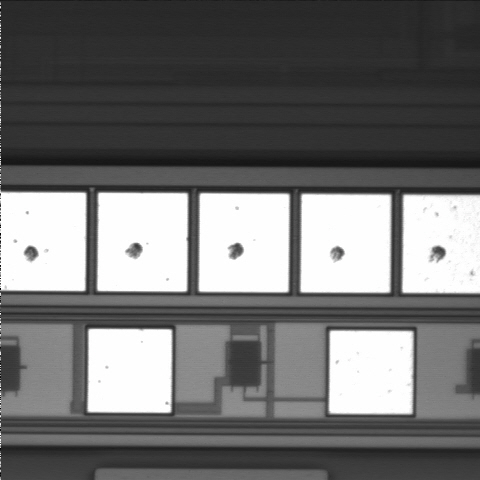pad: (97, 193, 188, 291), (199, 193, 289, 292), (301, 194, 391, 293), (88, 329, 172, 413), (329, 331, 413, 414)
